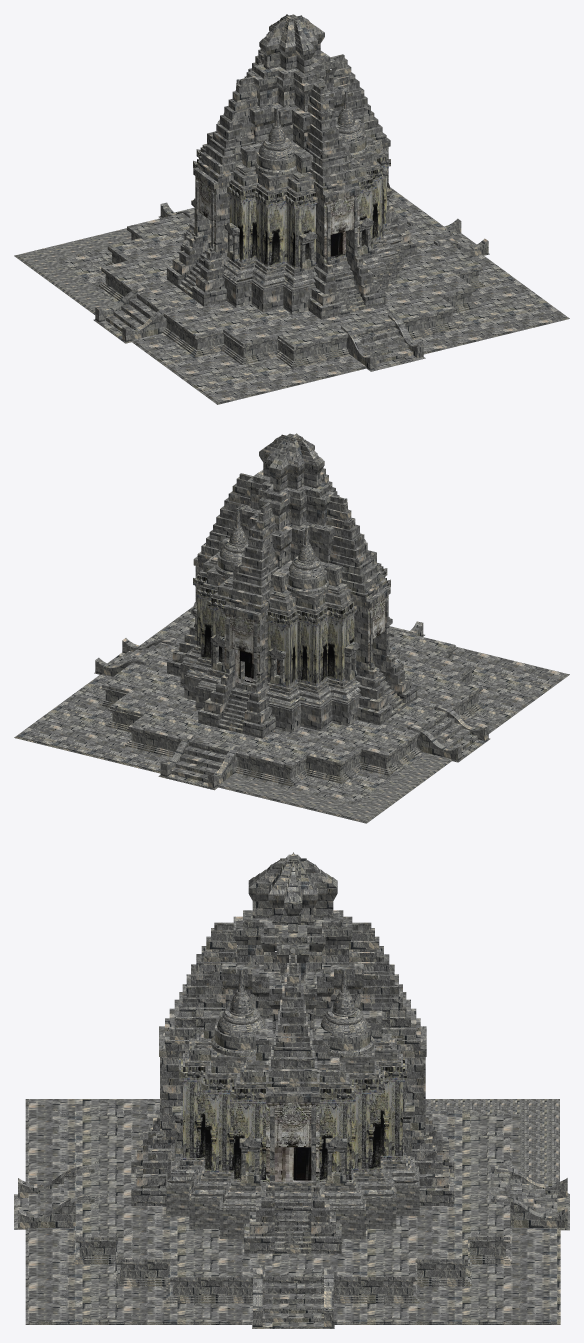
The model's file is Kalasan.gltf.
The picture shows the model from 3 angles, top to bottom: view 1: azimuth 30°, elevation 25°; view 2: azimuth 150°, elevation 25°; view 3: azimuth 270°, elevation 25°; orthographic projection. The views are drawn at different scales.
Parts seen in each view (by area): view 1: Object_21, Object_20, Object_7, Object_23, Object_6, Object_26, Object_9, Object_19, Object_22, Object_16, Object_15; view 2: Object_21, Object_20, Object_7, Object_23, Object_5, Object_26, Object_18, Object_22, Object_9, Object_17, Object_6, Object_15 (+1 smaller); view 3: Object_21, Object_20, Object_7, Object_9, Object_3, Object_16, Object_17, Object_26, Object_23, Object_5, Object_22, Object_2 (+2 smaller).
Boxes of the visible parts, left/top/right/bottom form: Object_21: left=54, top=14, right=569, bottom=404; Object_20: left=95, top=49, right=488, bottom=341; Object_7: left=14, top=131, right=403, bottom=329; Object_23: left=193, top=148, right=390, bottom=262; Object_6: left=241, top=166, right=388, bottom=268; Object_26: left=195, top=176, right=359, bottom=264; Object_9: left=229, top=190, right=372, bottom=266; Object_19: left=254, top=108, right=392, bottom=223; Object_22: left=178, top=187, right=365, bottom=314; Object_16: left=336, top=91, right=368, bottom=157; Object_15: left=193, top=149, right=390, bottom=205; Object_21: left=14, top=433, right=569, bottom=823; Object_20: left=95, top=468, right=488, bottom=787; Object_7: left=181, top=551, right=473, bottom=823; Object_23: left=193, top=566, right=390, bottom=687; Object_5: left=197, top=586, right=354, bottom=685; Object_26: left=224, top=595, right=388, bottom=682; Object_18: left=287, top=527, right=328, bottom=594; Object_22: left=218, top=611, right=405, bottom=733; Object_9: left=200, top=598, right=224, bottom=671; Object_17: left=215, top=510, right=248, bottom=577; Object_6: left=195, top=585, right=342, bottom=687; Object_15: left=193, top=568, right=390, bottom=624; Object_21: left=14, top=852, right=569, bottom=1328; Object_20: left=131, top=922, right=567, bottom=1326; Object_7: left=166, top=1033, right=559, bottom=1238; Object_9: left=183, top=1081, right=265, bottom=1181; Object_3: left=351, top=1081, right=402, bottom=1172; Object_16: left=211, top=968, right=264, bottom=1056; Object_17: left=320, top=969, right=374, bottom=1057; Object_26: left=266, top=1102, right=319, bottom=1183; Object_23: left=179, top=1058, right=406, bottom=1102; Object_5: left=319, top=1103, right=351, bottom=1181; Object_22: left=131, top=1058, right=454, bottom=1253; Object_2: left=274, top=1147, right=311, bottom=1181.
Size of the model in its own units: 46.59 by 33.02 by 46.85.
Materials: 20 (12 with a texture image).
